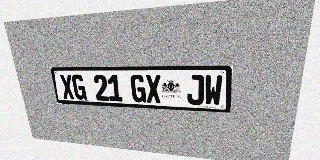1: (106, 75, 123, 102)
2: (93, 75, 109, 101)
G: (130, 75, 146, 103), (71, 74, 87, 100)
J: (187, 75, 204, 105)
W: (204, 75, 223, 106)
X: (145, 75, 161, 103), (59, 74, 75, 99)
